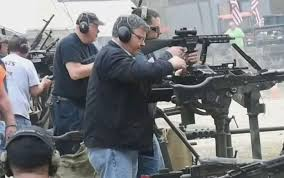Arma Real: (138, 26, 236, 59)
